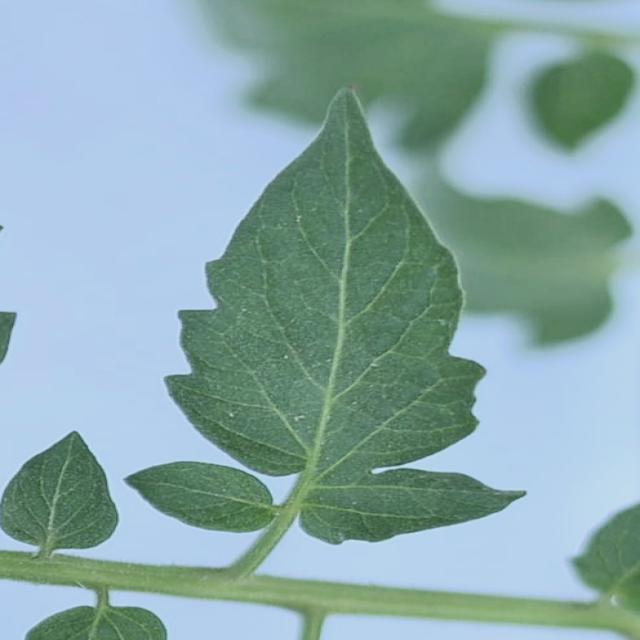healthy: (122, 80, 532, 552), (0, 428, 120, 558), (526, 49, 640, 162)
